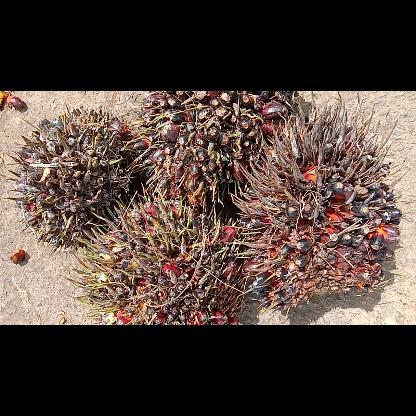TBS abnormal: (244, 96, 406, 314), (81, 196, 247, 324), (137, 92, 299, 211), (16, 109, 142, 245)
